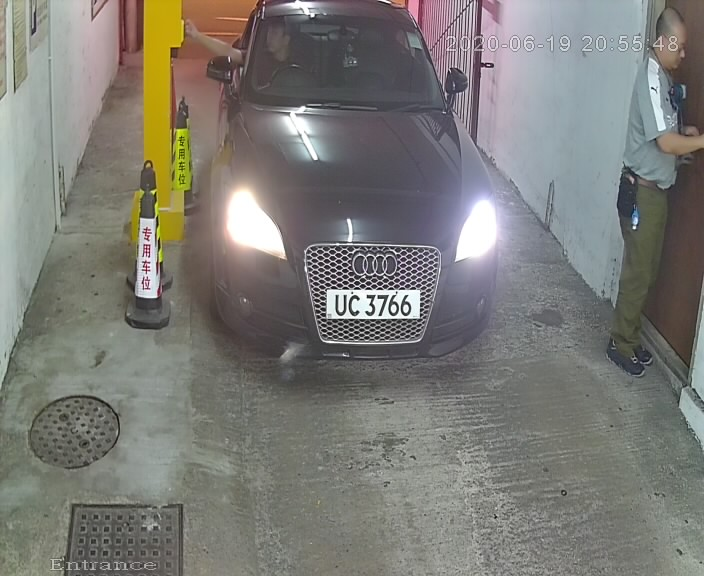privatecar: (180, 3, 528, 382)
